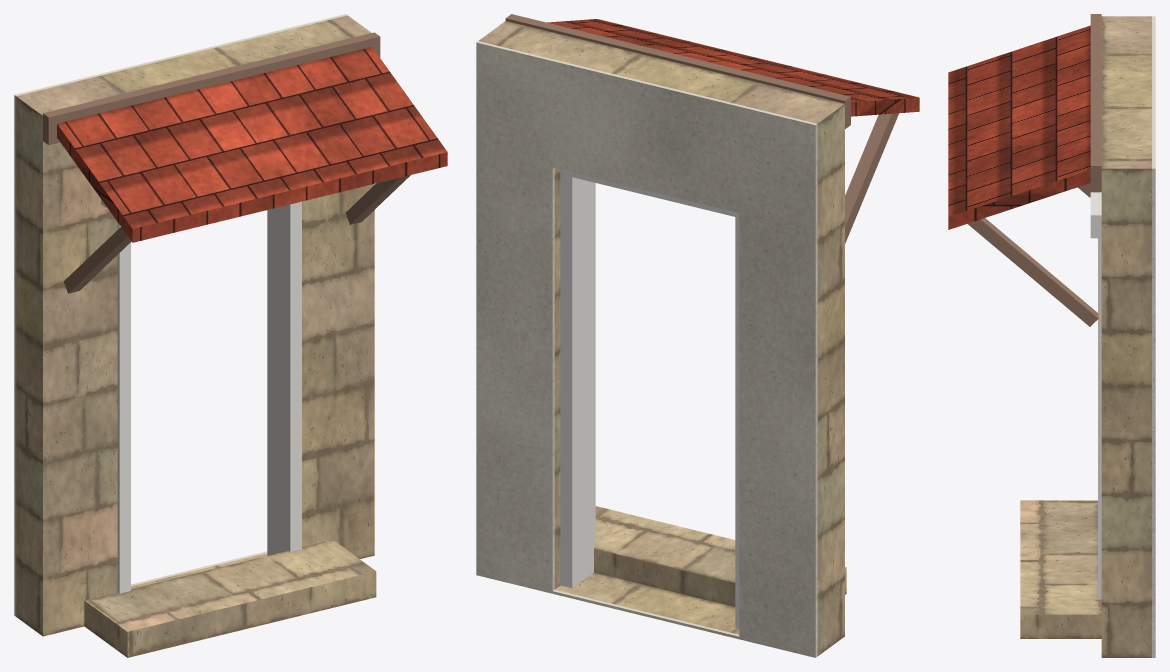
File: wall_stone_door.glb
3 views of the same model, side by side, from view 1: azimuth 30°, elevation 25°; view 2: azimuth 150°, elevation 25°; view 3: azimuth 270°, elevation 25° (orthographic). The views are drawn at different scales.
Parts seen in each view (by area): view 1: wall_stone_door_stone2, wall_stone_door_roof_tiles, wall_stone_door_frame, wall_stone_door_timber, wall_stone_door_plaster; view 2: wall_stone_door_plaster, wall_stone_door_stone2, wall_stone_door_frame, wall_stone_door_roof_tiles, wall_stone_door_timber; view 3: wall_stone_door_stone2, wall_stone_door_roof_tiles, wall_stone_door_timber, wall_stone_door_plaster, wall_stone_door_frame, wall_stone_door_trim.
Part boxes in pixels (<box>): wall_stone_door_stone2: <box>16,15,376,657</box>; wall_stone_door_roof_tiles: <box>57,47,447,242</box>; wall_stone_door_frame: <box>117,201,301,593</box>; wall_stone_door_timber: <box>43,32,410,293</box>; wall_stone_door_plaster: <box>14,14,347,616</box>; wall_stone_door_plaster: <box>476,41,817,657</box>; wall_stone_door_stone2: <box>478,21,846,655</box>; wall_stone_door_frame: <box>560,169,739,628</box>; wall_stone_door_roof_tiles: <box>547,19,919,116</box>; wall_stone_door_timber: <box>505,14,898,243</box>; wall_stone_door_stone2: <box>1020,16,1151,657</box>; wall_stone_door_roof_tiles: <box>948,25,1090,229</box>; wall_stone_door_timber: <box>967,14,1101,326</box>; wall_stone_door_plaster: <box>1152,16,1155,657</box>; wall_stone_door_frame: <box>1098,238,1101,599</box>; wall_stone_door_trim: <box>1090,192,1101,238</box>.
Size of the model in its own units: 2 by 3.02 by 1.15.
Materials: 6 (3 with a texture image).
